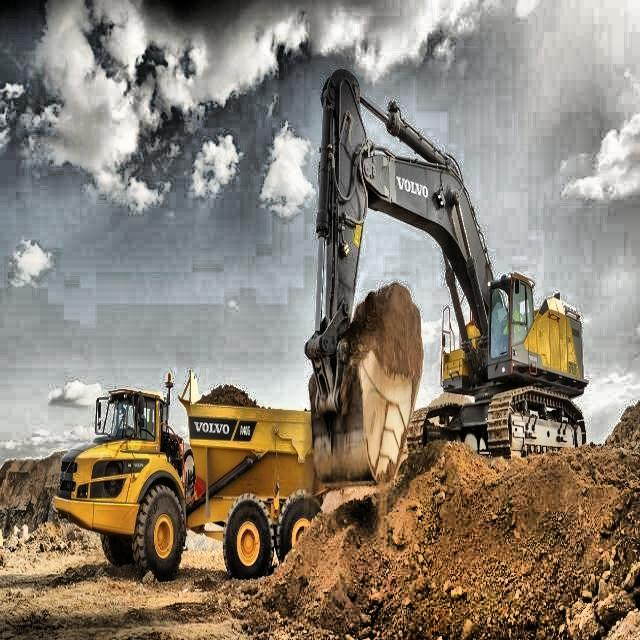excavator: (304, 69, 592, 486)
